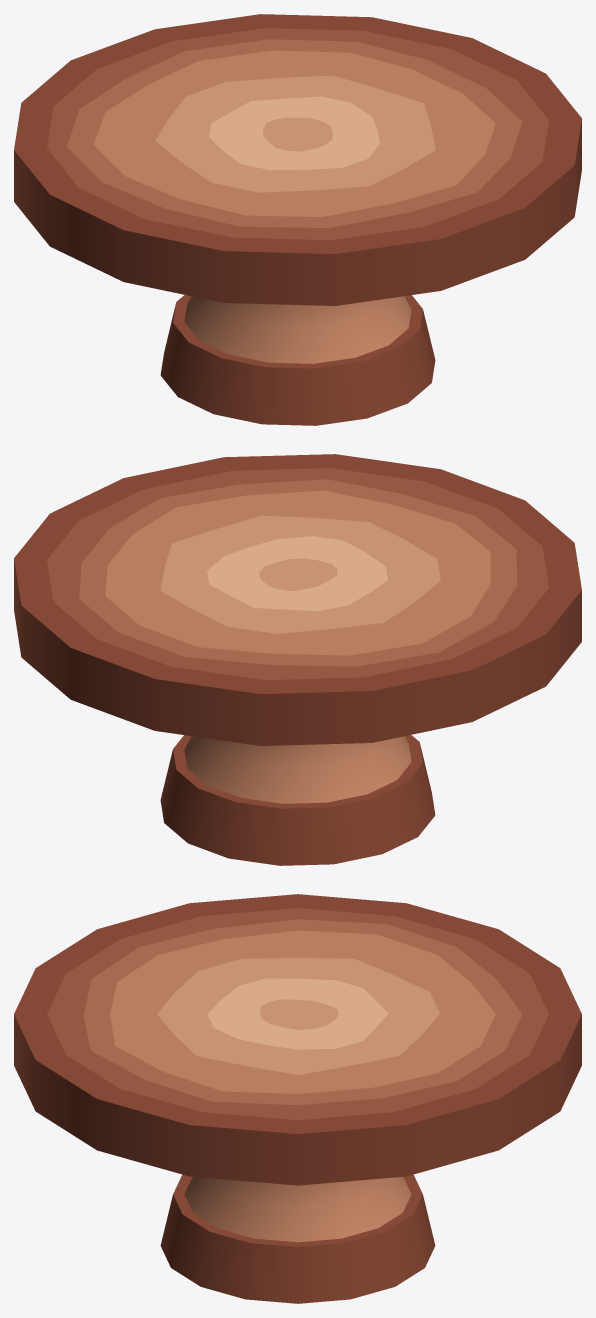
File: Table_Circle.fbx
3 renders of one model, top to bottom at view 1: azimuth 30°, elevation 25°; view 2: azimuth 150°, elevation 25°; view 3: azimuth 270°, elevation 25°, orthographic.
Parts seen in each view (by area): view 1: Table_2; view 2: Table_2; view 3: Table_2.
Part boxes in pixels (x1,y1,x2,y2): Table_2: (14, 14, 581, 425); Table_2: (14, 454, 581, 865); Table_2: (14, 894, 581, 1303).
Bounding box in the file's own units: 2 × 2 × 0.9.
